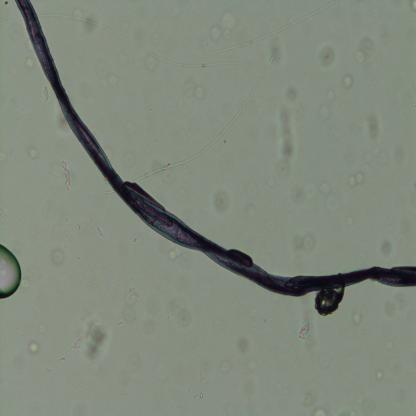Air bubble: (0, 244, 23, 300)
Background material: (274, 175, 314, 208), (82, 317, 109, 362), (376, 289, 406, 319), (313, 289, 347, 314), (280, 103, 294, 163), (120, 290, 140, 328), (318, 90, 340, 122), (179, 79, 208, 103), (98, 61, 126, 84), (168, 299, 189, 329), (59, 155, 74, 196), (320, 180, 340, 210), (356, 34, 375, 64), (365, 146, 392, 166), (210, 189, 230, 215), (52, 112, 71, 139), (0, 11, 23, 31), (366, 116, 382, 140), (235, 332, 251, 356), (318, 47, 337, 67), (82, 12, 97, 37), (216, 354, 233, 374), (349, 306, 365, 327), (296, 234, 313, 253), (348, 171, 364, 191), (49, 249, 68, 265), (299, 323, 312, 344), (300, 390, 316, 407), (285, 86, 300, 104), (341, 72, 355, 90), (380, 238, 391, 260), (166, 246, 182, 260), (27, 146, 40, 163), (373, 368, 385, 383), (23, 58, 36, 71), (28, 341, 40, 355), (72, 336, 82, 352), (312, 404, 325, 415), (345, 216, 355, 229), (96, 226, 104, 238)
Glass filter fibre: (13, 0, 416, 296), (135, 58, 274, 183), (42, 5, 239, 70), (202, 0, 337, 58), (0, 82, 48, 174), (0, 211, 10, 224), (103, 190, 118, 198)
